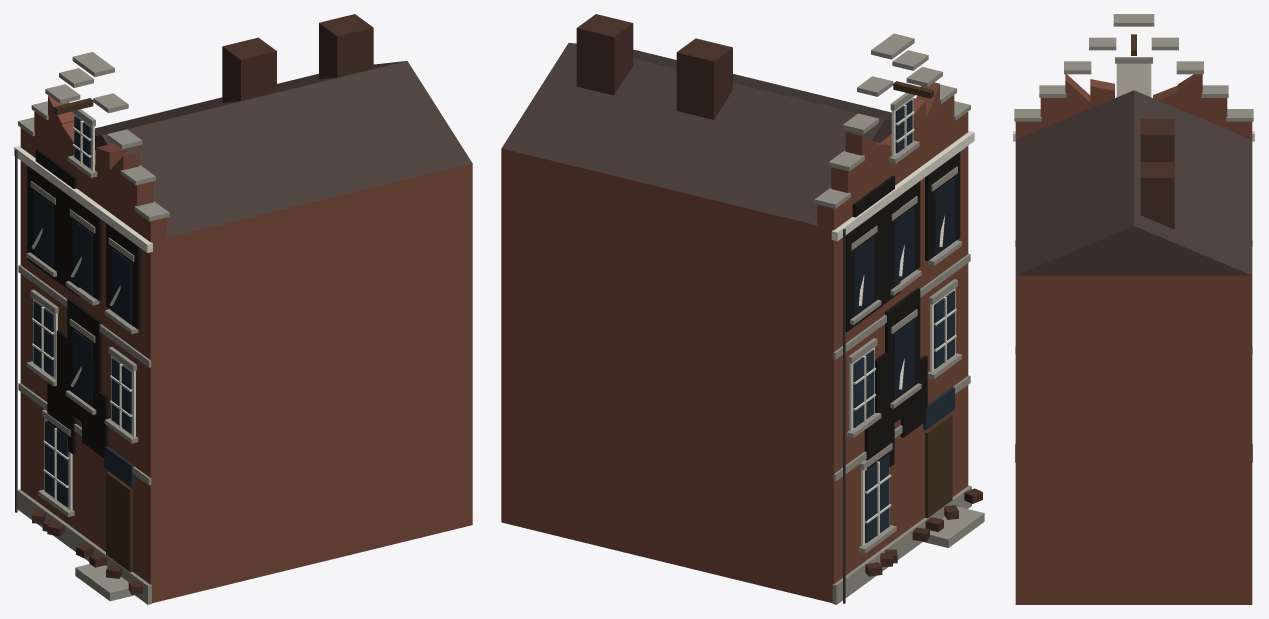
File: gevel_trap_schade.glb
The picture shows the model from 3 angles, left to right: view 1: azimuth 30°, elevation 25°; view 2: azimuth 150°, elevation 25°; view 3: azimuth 270°, elevation 25°; orthographic projection. The views are drawn at different scales.
Visible parts, largest first — view 1: Gevel; view 2: Gevel; view 3: Gevel.
Part boxes in pixels (bbox=[...]): Gevel: bbox=[14, 14, 472, 604]; Gevel: bbox=[501, 14, 984, 604]; Gevel: bbox=[1013, 14, 1254, 604].
Bounding box in the file's own units: 8.75 × 11.69 × 5.72.
